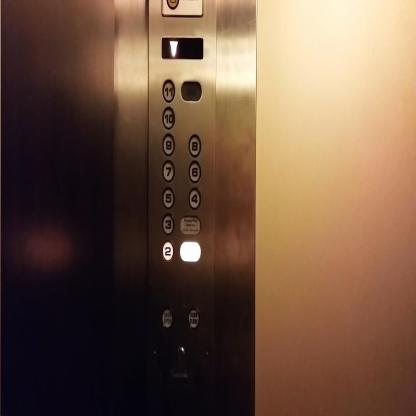10: (162, 105, 175, 130)
11: (162, 77, 175, 102)
2: (162, 241, 173, 261)
3: (162, 212, 174, 233)
4: (188, 186, 201, 210)
5: (162, 186, 175, 208)
6: (188, 159, 201, 184)
7: (162, 159, 175, 181)
8: (188, 133, 201, 157)
9: (162, 132, 175, 156)
led: (161, 36, 204, 59)
text: (188, 306, 200, 329), (162, 307, 174, 328)
